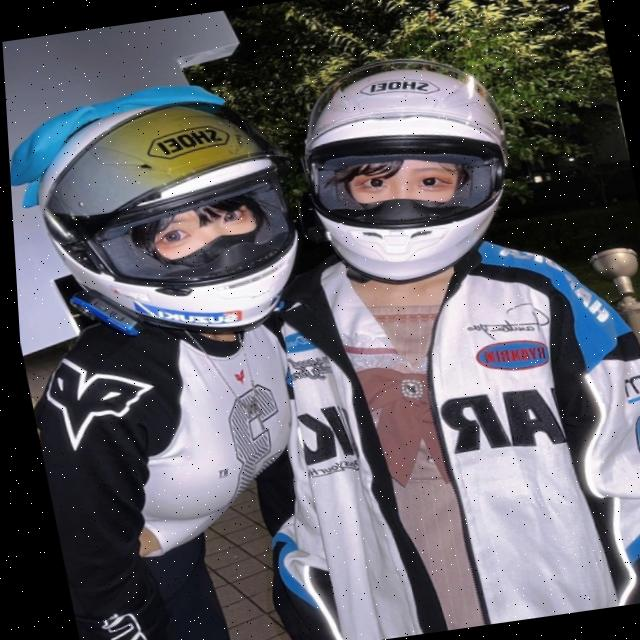helmet: (12, 80, 319, 362), (274, 39, 540, 298)
